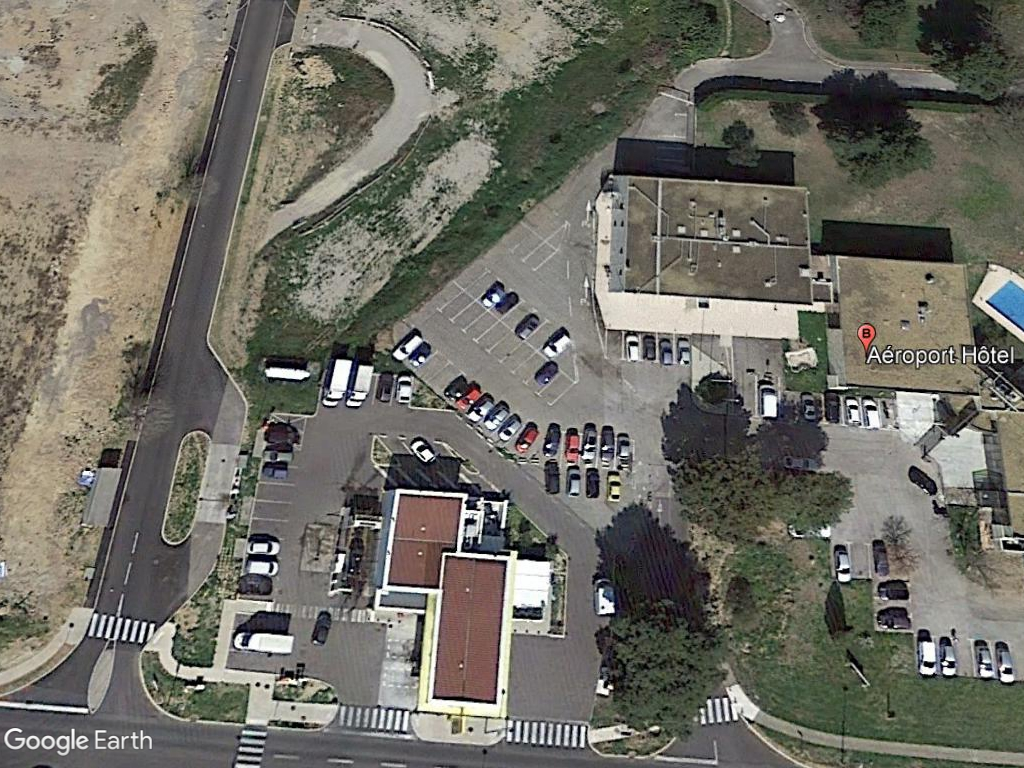car: (994, 643, 1018, 685), (244, 536, 285, 558), (971, 642, 994, 681), (240, 556, 284, 576), (840, 394, 865, 429), (832, 546, 854, 585), (937, 641, 959, 678), (870, 542, 891, 578), (799, 388, 818, 422)
truck: (317, 354, 357, 411), (229, 627, 300, 656), (592, 576, 618, 618)
van: (754, 379, 781, 421), (917, 638, 940, 680), (864, 396, 883, 429)
